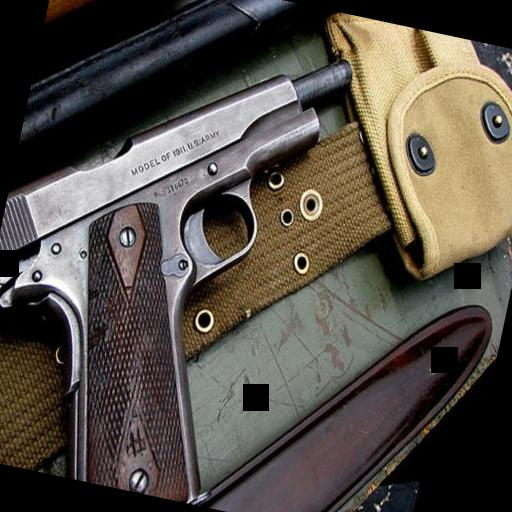Handgun: (0, 0, 357, 512)
